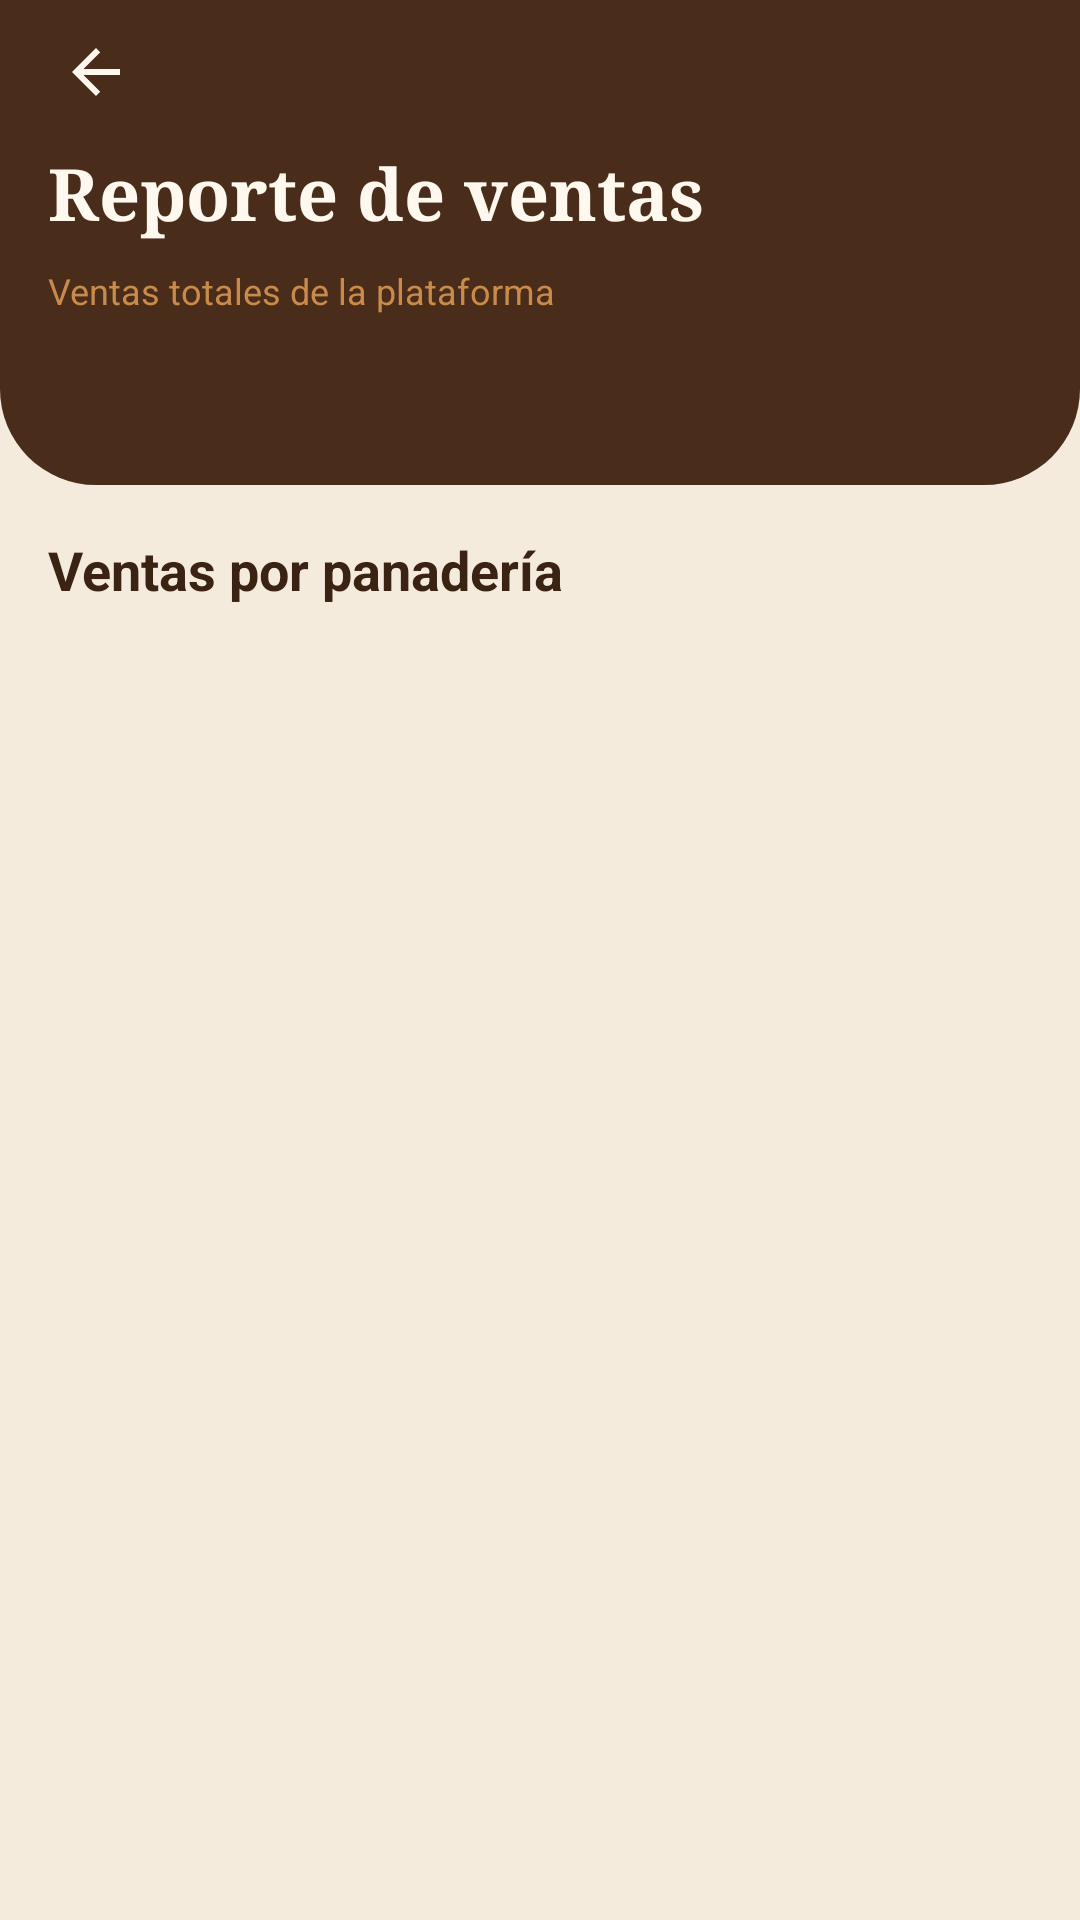

Icons on this 1080w x 1920h Android screen, each with its box as region(x1, y1, x2, y2):
Volver: region(72, 48, 120, 96)
